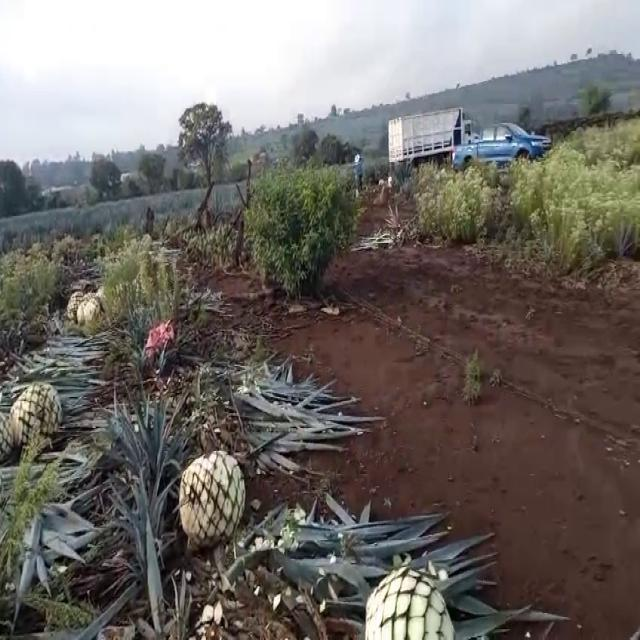agave: (364, 551, 453, 640), (175, 452, 244, 542), (10, 378, 66, 446), (0, 406, 8, 461), (66, 290, 81, 318), (86, 293, 99, 319), (78, 300, 90, 320)
